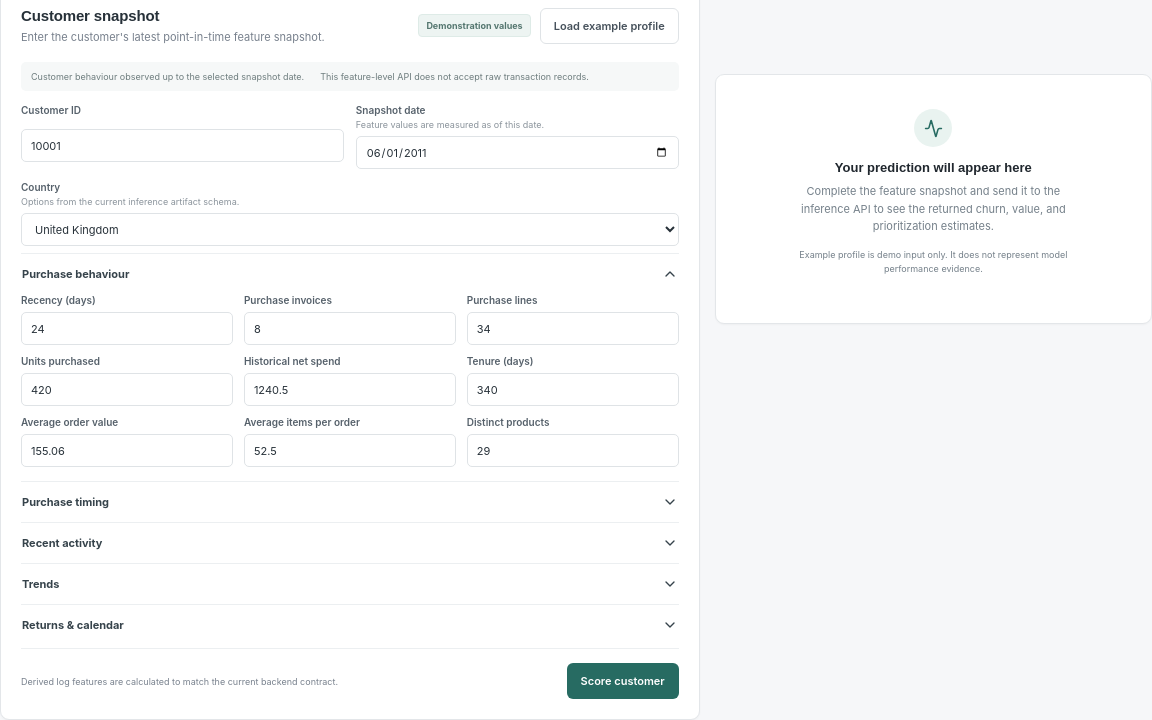
it: single-customer inference result › submits the current feature snapshot and presents formatted API results
(page scrolled)
What coordinates should you click on to do the following:
click the button "Score customer"
I would click on:
 (623, 681)
Its box is top-left (567, 663), bottom-right (679, 699).
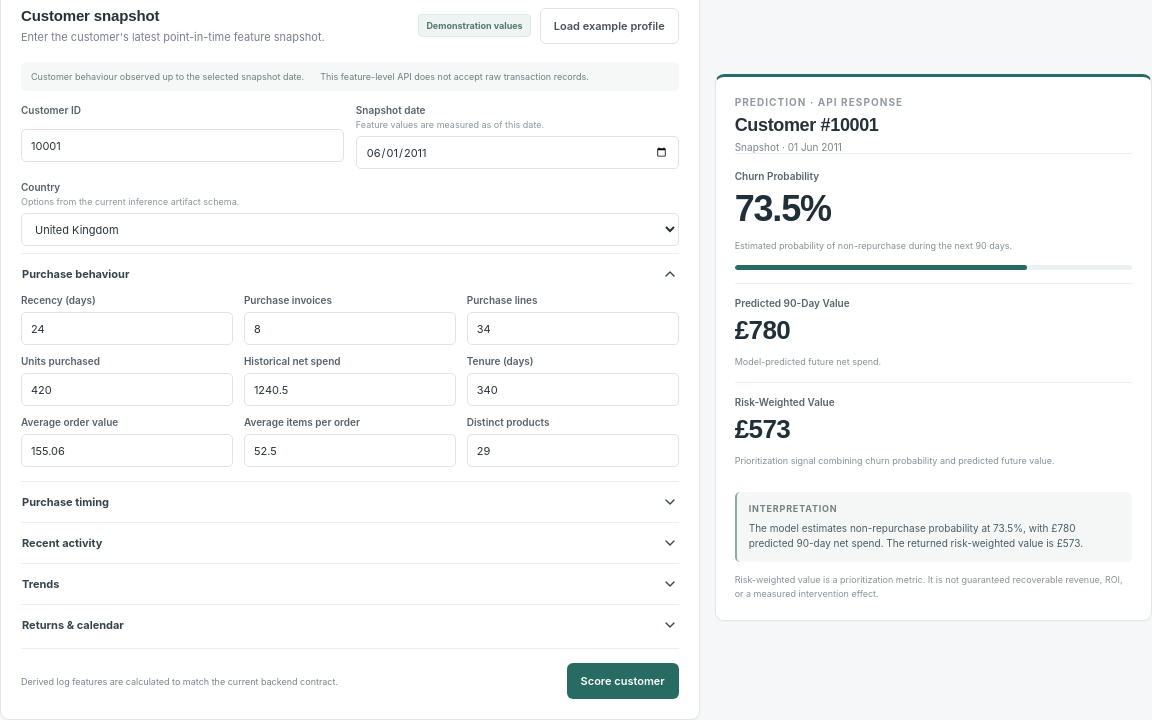
Now the text "73.5%" is shown, box top-left (735, 188), bottom-right (831, 229)
Now the text "£780" is shown, box top-left (735, 315), bottom-right (790, 345)
Now the text "£573" is shown, box top-left (735, 414), bottom-right (790, 444)
